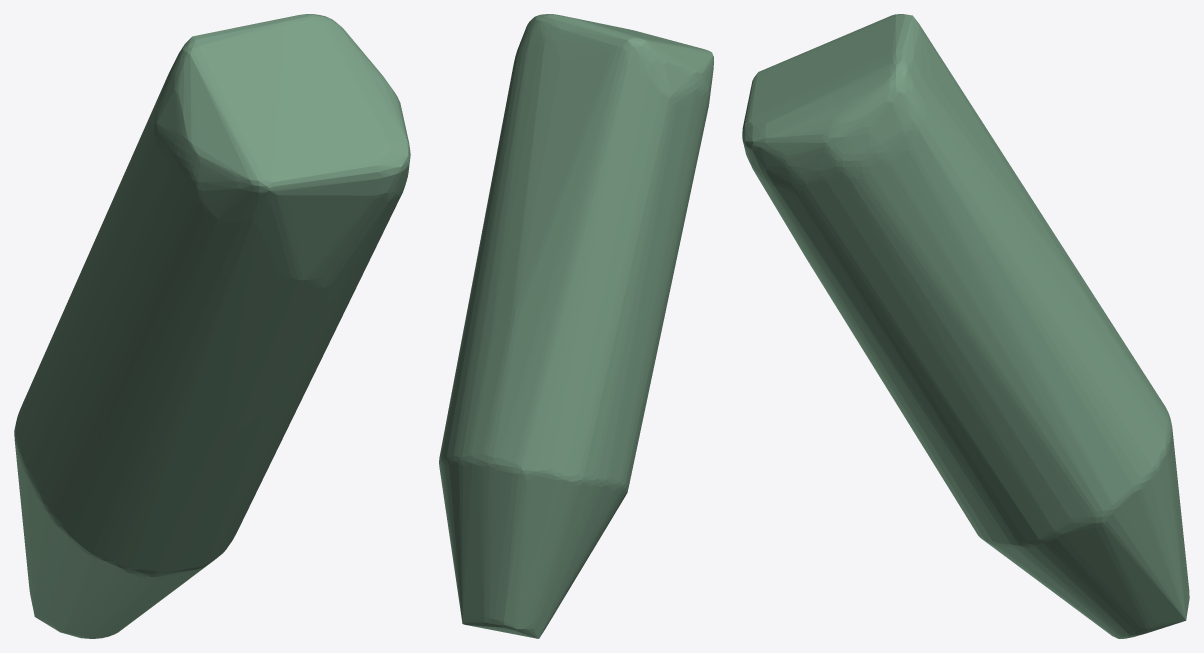
File: 0_decomposed.obj
3 renders of one model, left to right at view 1: azimuth 30°, elevation 25°; view 2: azimuth 150°, elevation 25°; view 3: azimuth 270°, elevation 25°, orthographic. The views are drawn at different scales.
Parts seen in each view (by area): view 1: geometry_0; view 2: geometry_0; view 3: geometry_0.
Part boxes in pixels (x1,y1,x2,y2): geometry_0: (14, 14, 410, 638); geometry_0: (439, 14, 713, 638); geometry_0: (742, 14, 1189, 638).
Bounding box in the file's own units: 0.0764 × 0.2156 × 0.1439.
